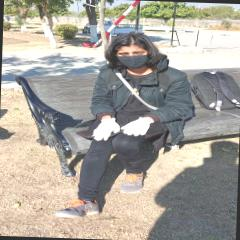gloved: (92, 117, 121, 141), (121, 116, 153, 136)
